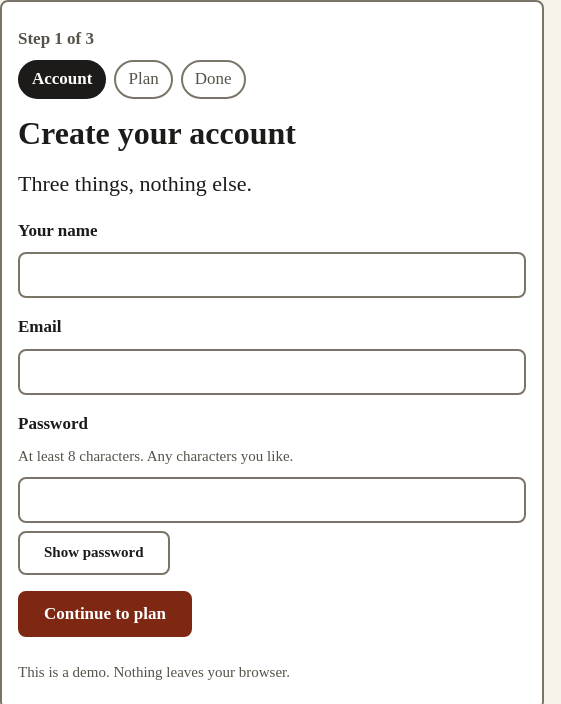
Test: account step › a short password is rejected with a message
This screenshot has width=561, height=704.
Type "Ana Pérez" into the field labelled "Your name" at (272, 275), box [18,252,526,298]
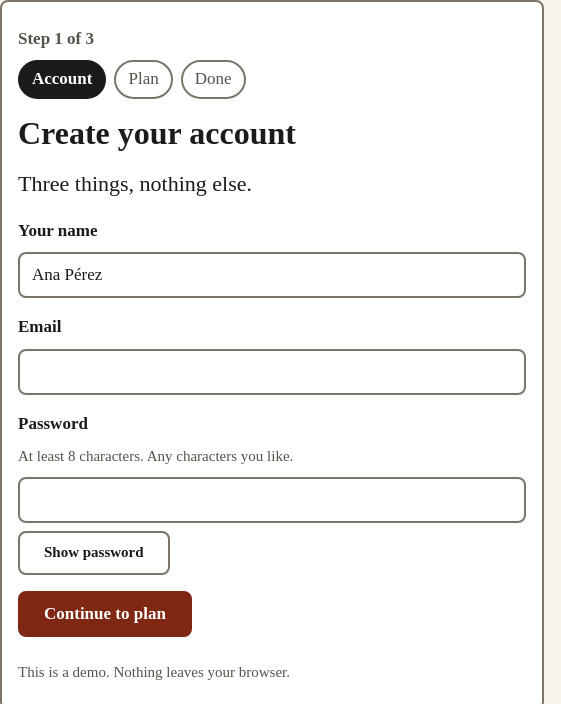
Type "ana@example.com" into the field labelled "Email" at (272, 372), box [18,349,526,395]
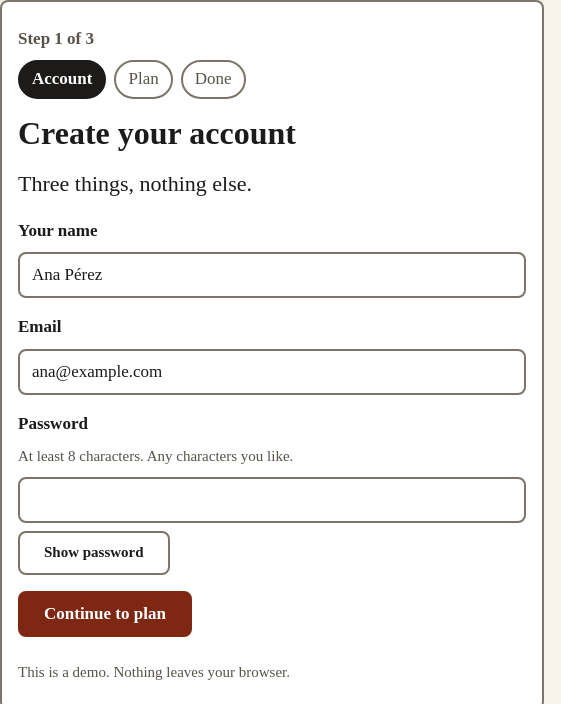
Type "short" into the password field labelled "Password" at (272, 500), box [18,476,526,523]
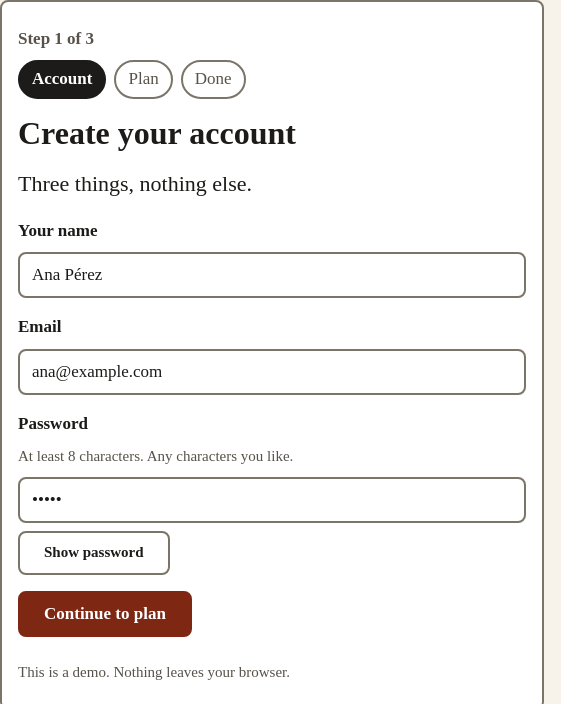
Click the button "Continue to plan" at (105, 614), box [18,591,192,637]
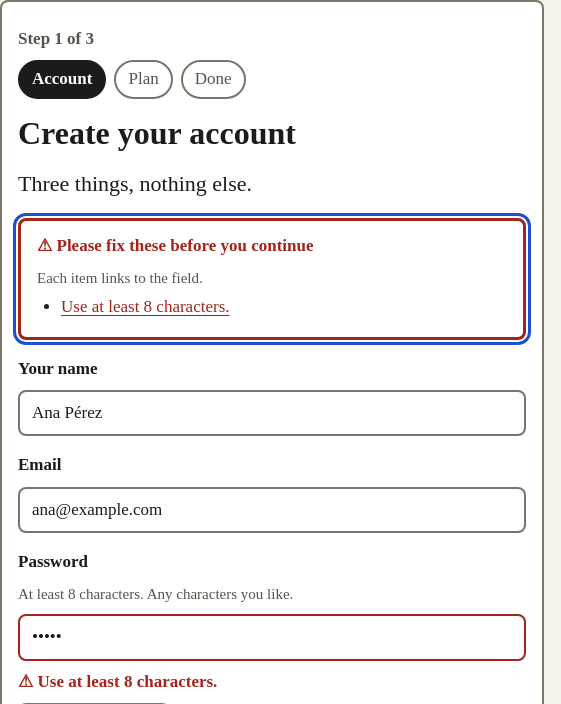
Expected: the message shows "Use at least 8 characters.", [61,290,230,324]
